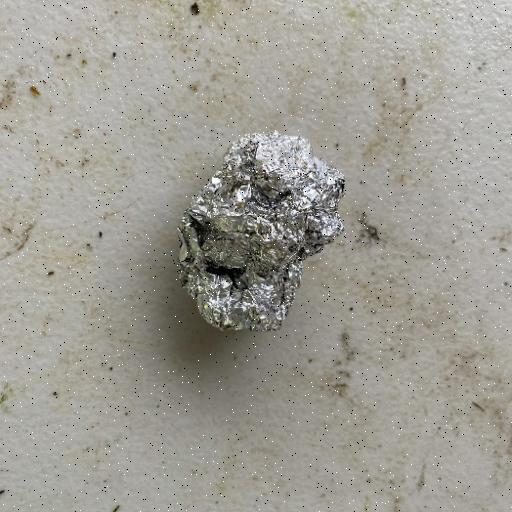Metal: (174, 129, 347, 334)
